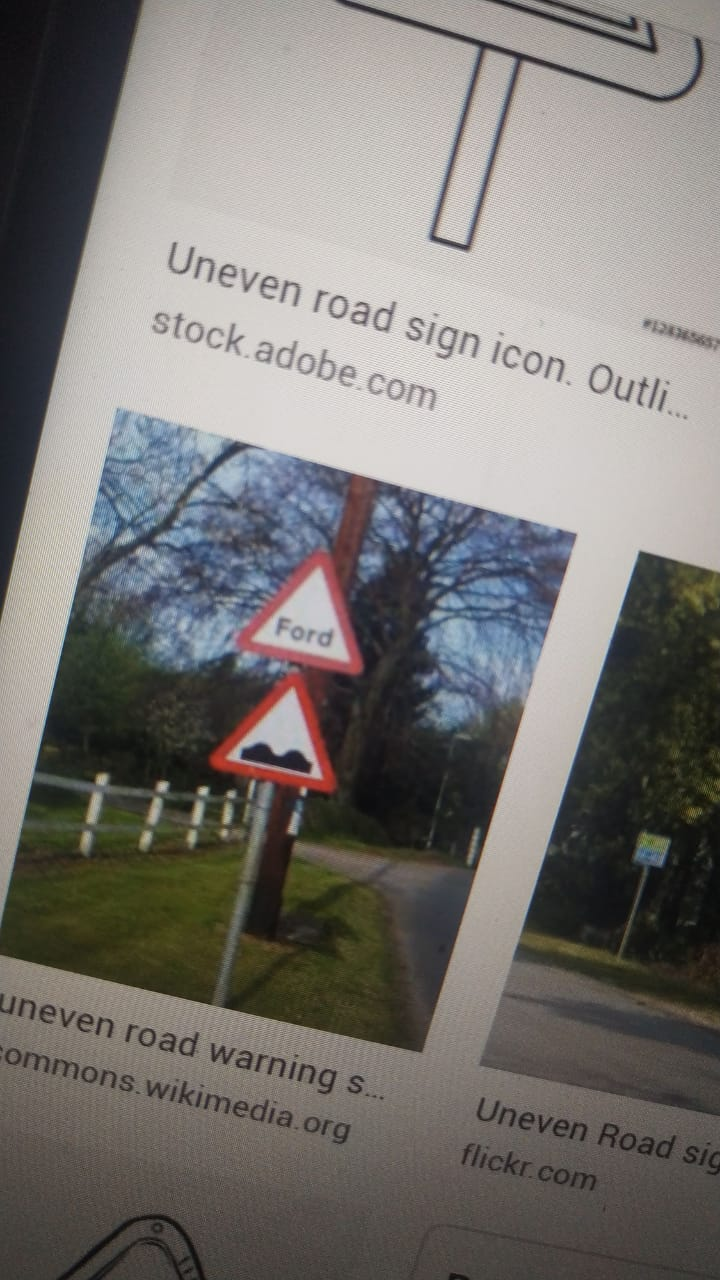UNEVEN ROAD: (208, 684, 383, 802)
